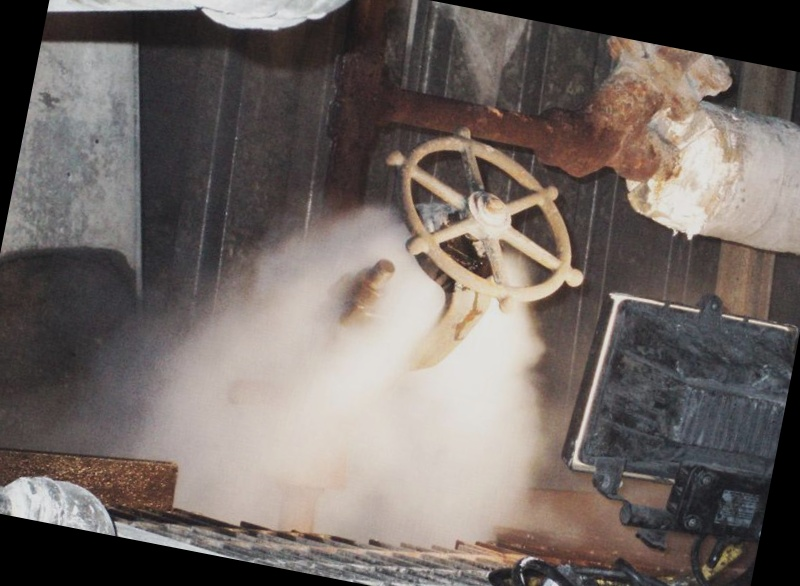smoke: (186, 253, 522, 535)
